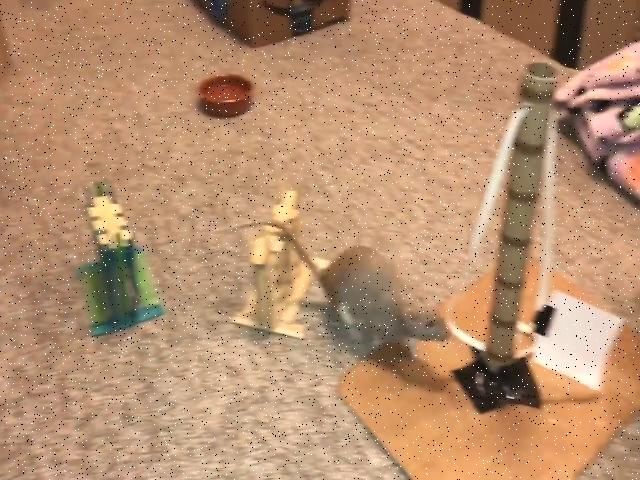Tikus: (314, 238, 454, 360)
